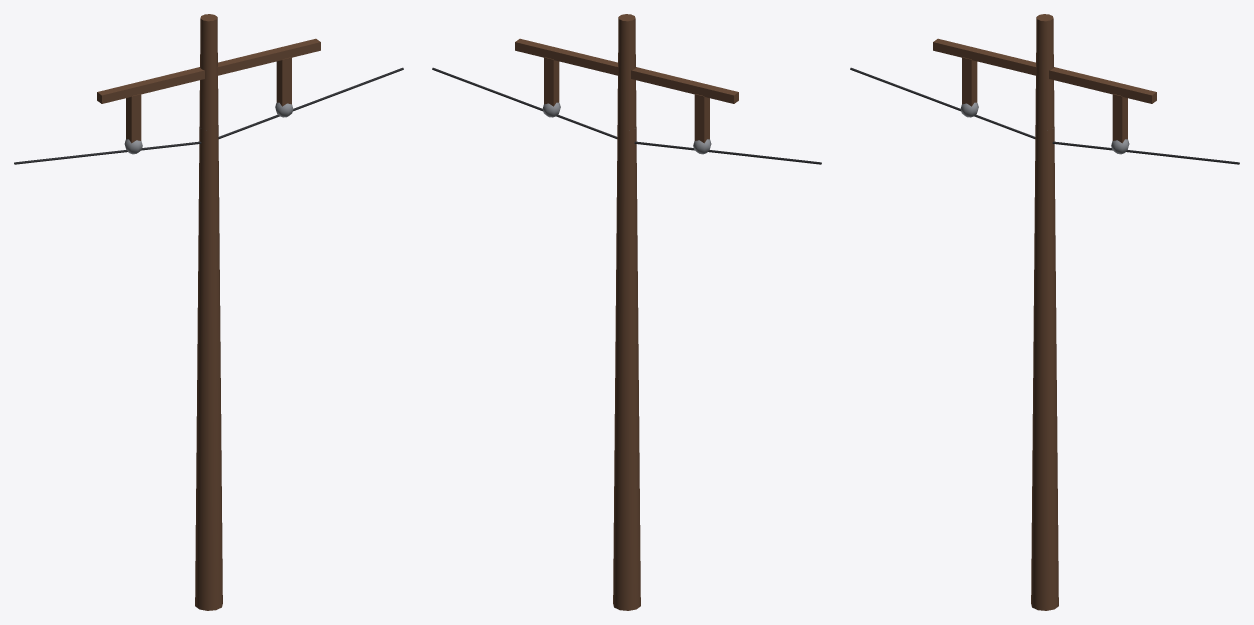
File: powerline_high.glb
The picture shows the model from 3 angles, left to right: view 1: azimuth 30°, elevation 25°; view 2: azimuth 150°, elevation 25°; view 3: azimuth 330°, elevation 25°; orthographic projection.
Size of the model in its own units: 5.68 by 8.2 by 0.36.
